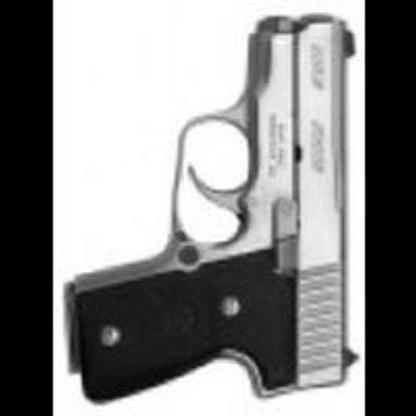weapon: (59, 10, 355, 407)
